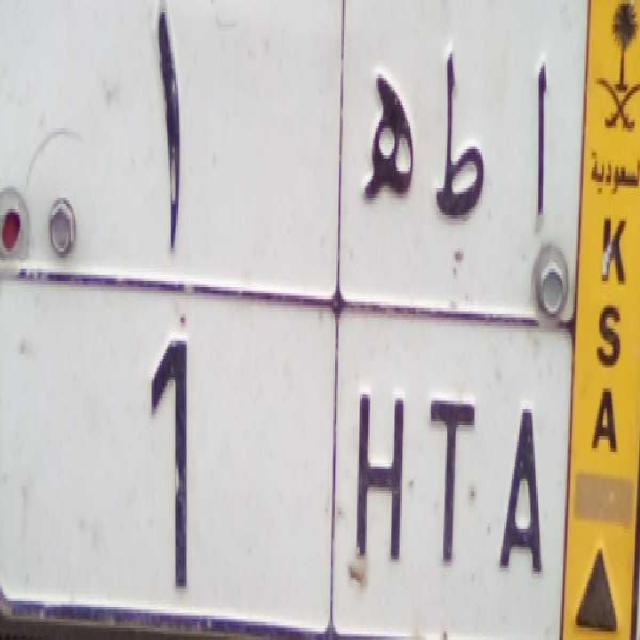license_plate: (0, 256, 565, 639)
